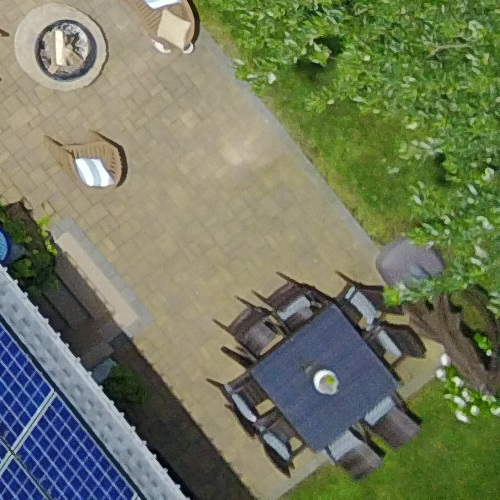flower pot: (304, 364, 341, 403)
table: (225, 272, 409, 462)
